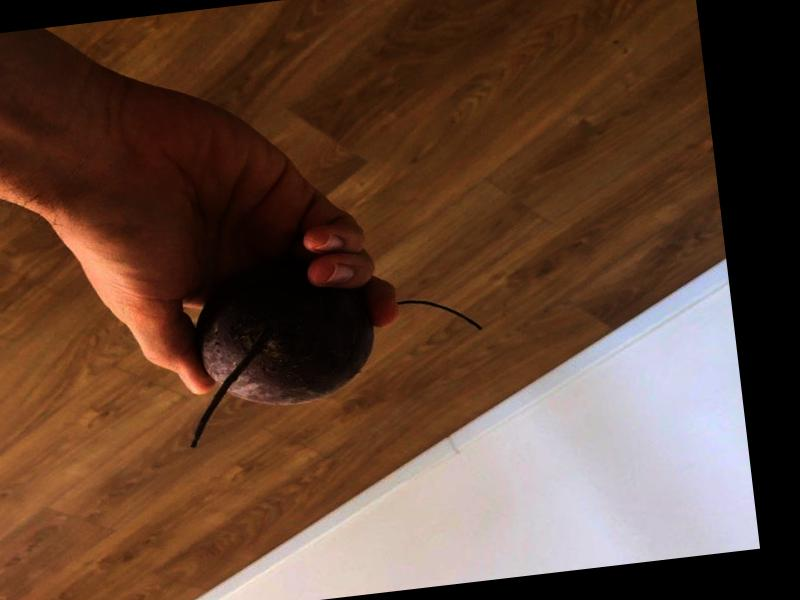Beet: (172, 241, 492, 447)
